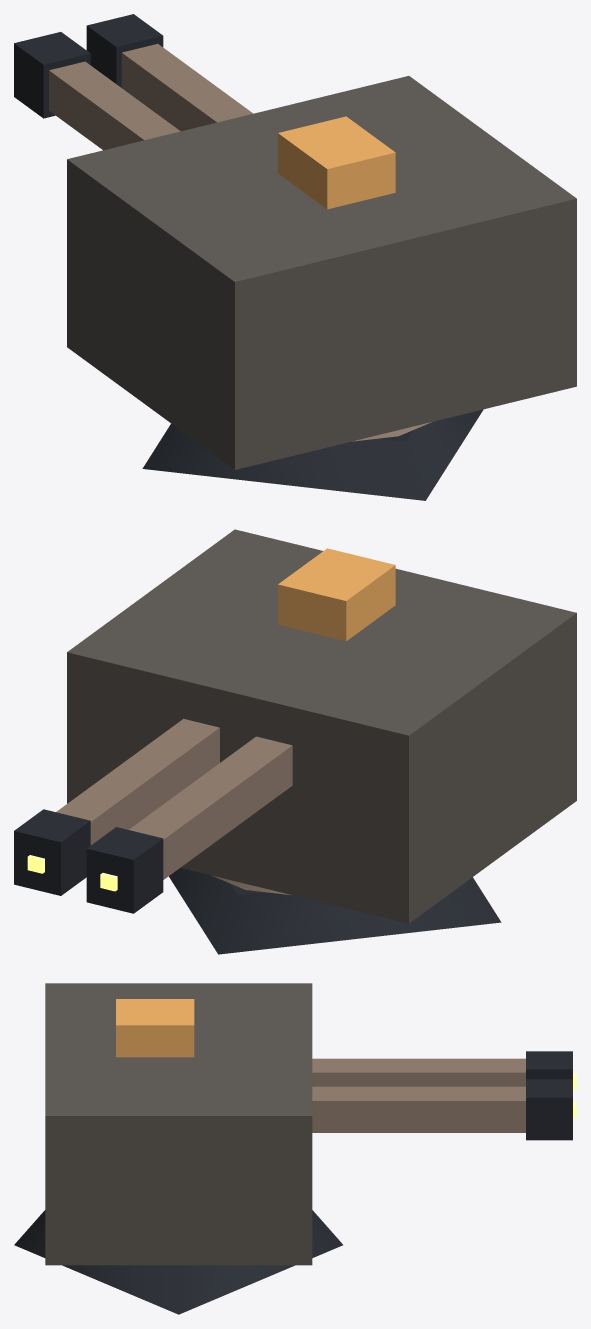
The model's file is compact_high_gravity--beam_turret.glb.
The picture shows the model from 3 angles, top to bottom: view 1: azimuth 30°, elevation 25°; view 2: azimuth 150°, elevation 25°; view 3: azimuth 270°, elevation 25°; orthographic projection. The views are drawn at different scales.
Parts seen in each view (by area): view 1: armored_module_housing_3, mount_adapter_1, targeting_unit_10, weapon_barrel_4, weapon_barrel_7, muzzle_5, muzzle_8; view 2: armored_module_housing_3, mount_adapter_1, weapon_barrel_4, weapon_barrel_7, targeting_unit_10, muzzle_5, muzzle_8; view 3: armored_module_housing_3, weapon_barrel_7, mount_adapter_1, weapon_barrel_4, targeting_unit_10, muzzle_8, muzzle_5.
Part boxes in pixels (<box>): armored_module_housing_3: <box>67,76,576,469</box>; mount_adapter_1: <box>142,409,483,500</box>; targeting_unit_10: <box>278,116,395,209</box>; weapon_barrel_4: <box>49,61,180,150</box>; weapon_barrel_7: <box>121,44,252,131</box>; muzzle_5: <box>14,32,90,118</box>; muzzle_8: <box>86,14,163,87</box>; armored_module_housing_3: <box>67,529,576,923</box>; mount_adapter_1: <box>169,868,501,954</box>; weapon_barrel_4: <box>129,736,292,879</box>; weapon_barrel_7: <box>56,718,219,845</box>; targeting_unit_10: <box>278,548,395,641</box>; muzzle_5: <box>86,827,163,913</box>; muzzle_8: <box>14,809,90,895</box>; armored_module_housing_3: <box>45,983,312,1265</box>; weapon_barrel_7: <box>312,1086,525,1132</box>; mount_adapter_1: <box>14,1210,342,1314</box>; weapon_barrel_4: <box>312,1058,525,1086</box>; targeting_unit_10: <box>116,999,194,1057</box>; muzzle_8: <box>526,1079,572,1140</box>; muzzle_5: <box>526,1051,572,1079</box>.
Size of the model in its own units: 10.08 by 7.86 by 17.22.
